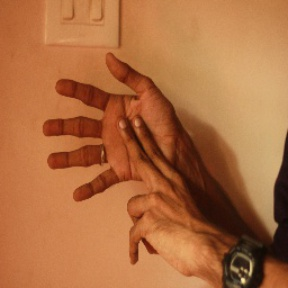N: (42, 49, 196, 260)
